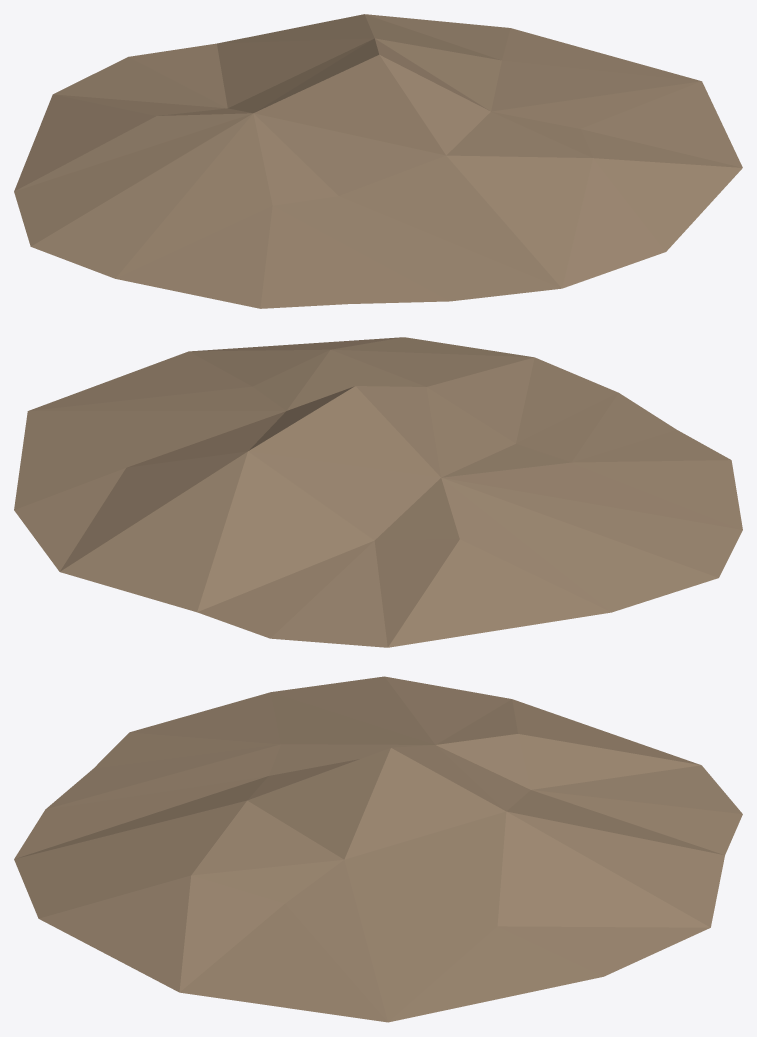
The model's file is SM_Env_SandEdge_06.glb.
The picture shows the model from 3 angles, top to bottom: view 1: azimuth 30°, elevation 25°; view 2: azimuth 150°, elevation 25°; view 3: azimuth 270°, elevation 25°; orthographic projection. The views are drawn at different scales.
Visible parts, largest first — view 1: SM_Env_SandEdge_06; view 2: SM_Env_SandEdge_06; view 3: SM_Env_SandEdge_06.
Boxes of the visible parts, x1=… form: SM_Env_SandEdge_06: x1=14, y1=14, x2=742, y2=308; SM_Env_SandEdge_06: x1=14, y1=337, x2=742, y2=647; SM_Env_SandEdge_06: x1=14, y1=676, x2=742, y2=1022.
Bounding box in the file's own units: 6.3 × 0.9292 × 5.61.
Materials: 1 (1 with a texture image).
